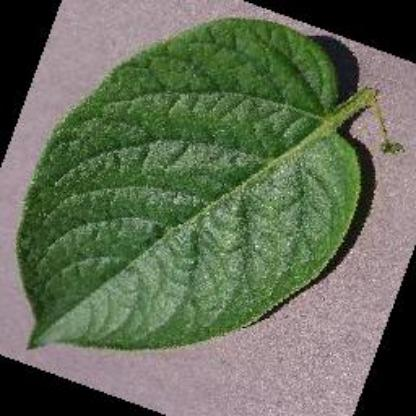Healthy-plant: (15, 15, 364, 349)
